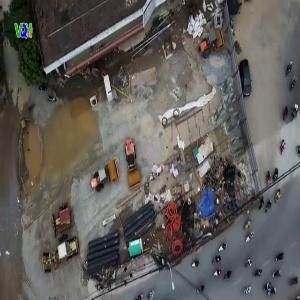drone: (48, 51, 105, 108)
